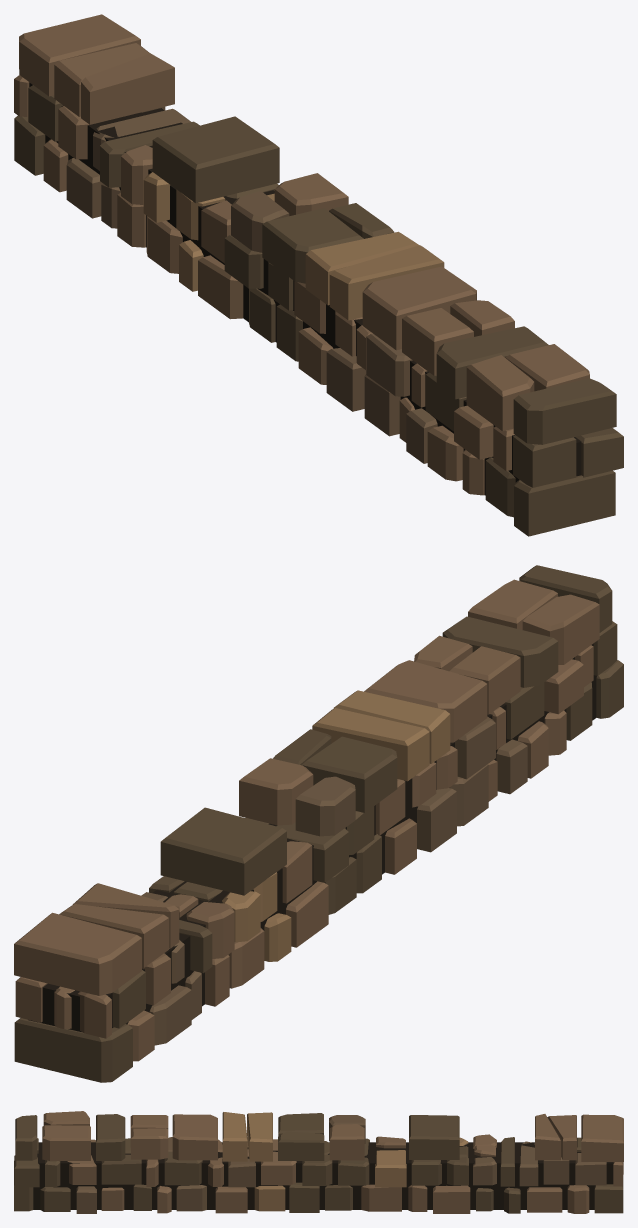
The model's file is ZonOldW04.glb.
3 views of the same model, one above another, from view 1: azimuth 30°, elevation 25°; view 2: azimuth 150°, elevation 25°; view 3: azimuth 270°, elevation 25° (orthographic). The views are drawn at different scales.
Visible parts, largest first — view 1: ZonOldW04_bed; view 2: ZonOldW04_bed; view 3: ZonOldW04_bed.
Part boxes in pixels (x1,y1,x2,y2): ZonOldW04_bed: [14, 14, 623, 536]; ZonOldW04_bed: [14, 565, 623, 1082]; ZonOldW04_bed: [14, 1111, 623, 1213].
Size of the model in its own units: 1.36 by 1.65 by 12.07.
